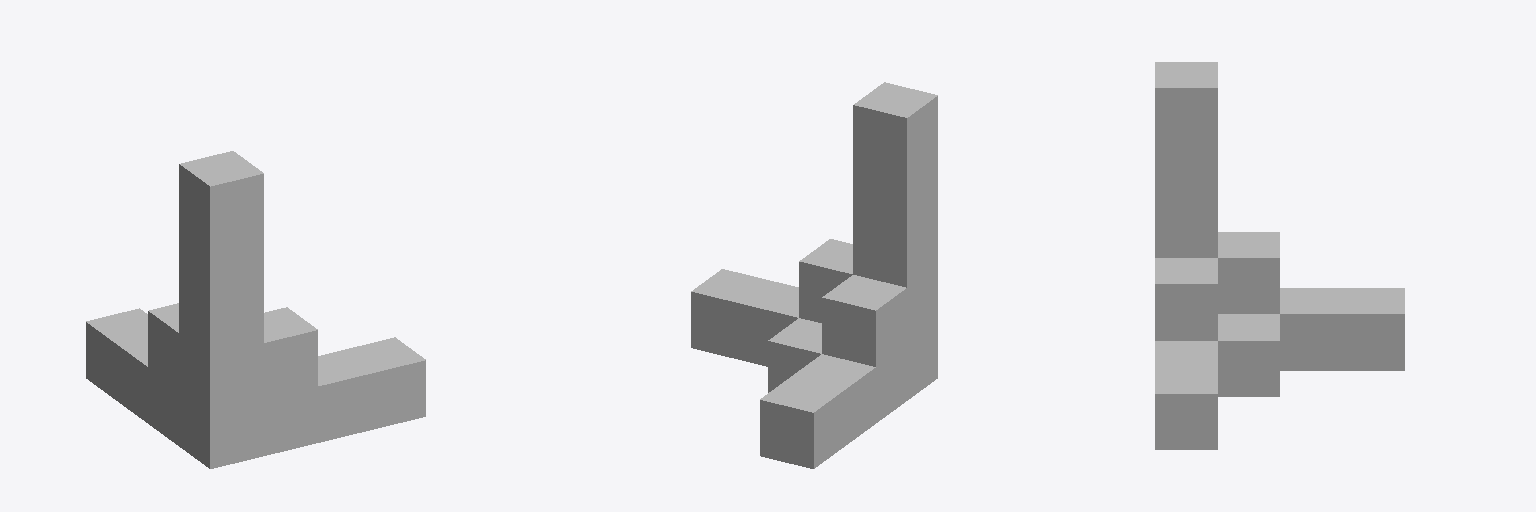
Rendered from corner.obj.
3 renders of one model, left to right at view 1: azimuth 30°, elevation 25°; view 2: azimuth 150°, elevation 25°; view 3: azimuth 270°, elevation 25°, orthographic.
Parts seen in each view (by area): view 1: object 1; view 2: object 1; view 3: object 1.
Part boxes in pixels (x1,y1,x2,y2): object 1: (86, 151, 425, 468); object 1: (691, 82, 937, 468); object 1: (1155, 62, 1404, 449).
Size of the model in its own units: 0.4 by 0.5 by 0.4.